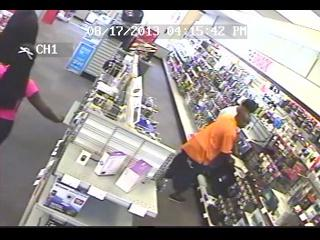Normal: (158, 98, 260, 204), (0, 11, 63, 146)
